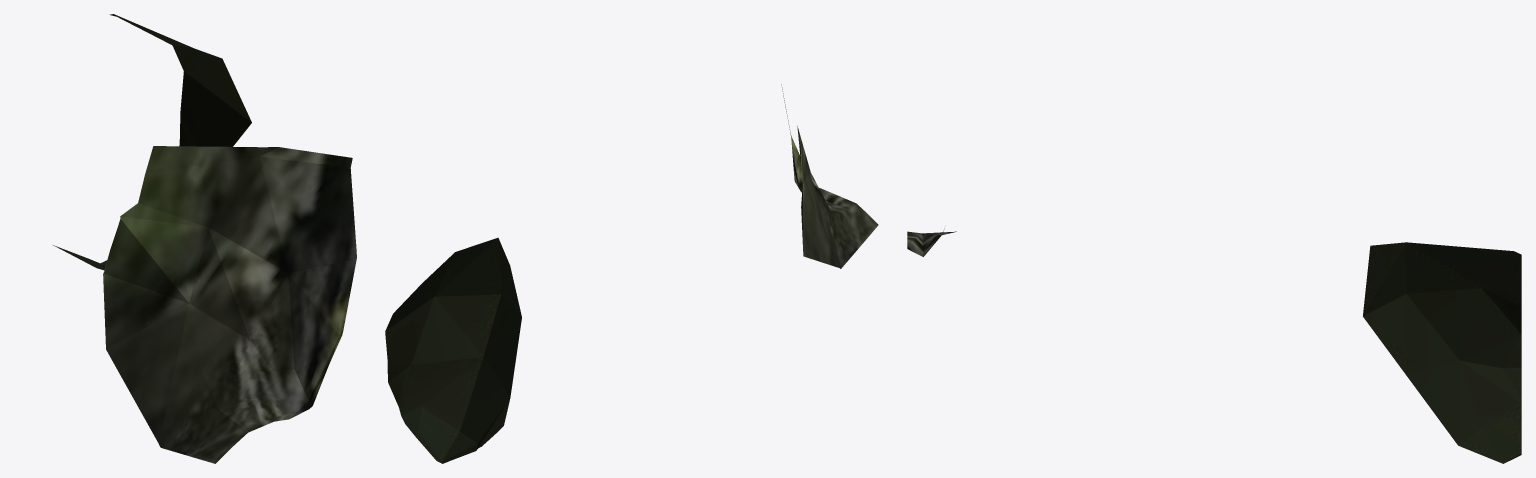
3 renders of one model, left to right at view 1: azimuth 30°, elevation 25°; view 2: azimuth 150°, elevation 25°; view 3: azimuth 270°, elevation 25°, orthographic. The views are drawn at different scales.
Bounding box in the file's own units: 1.56 × 1.81 × 2.95.
1 material, 1 textured.
